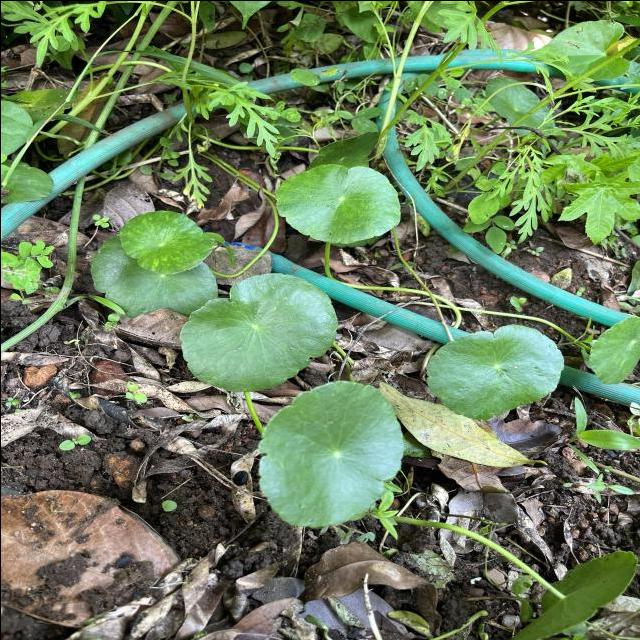Bacopa monnieri: (255, 378, 406, 528), (177, 270, 339, 392), (422, 322, 566, 420), (272, 161, 402, 245), (116, 208, 213, 275), (586, 314, 640, 385)
